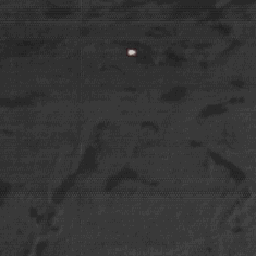Target: (127, 49, 137, 56)
